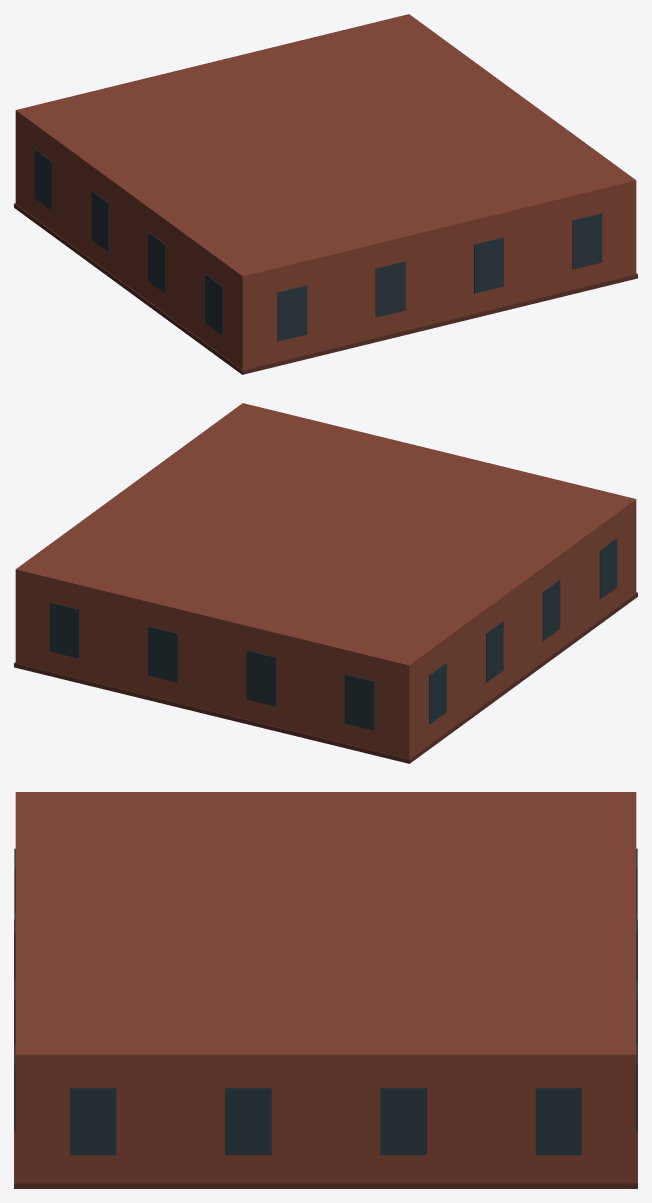
Rendered from tw_brick_16_floor_lod1.glb.
3 renders of one model, top to bottom at view 1: azimuth 30°, elevation 25°; view 2: azimuth 150°, elevation 25°; view 3: azimuth 270°, elevation 25°, orthographic. The views are drawn at different scales.
Parts seen in each view (by area): view 1: tw_brick_16_floor_lod1; view 2: tw_brick_16_floor_lod1; view 3: tw_brick_16_floor_lod1.
Boxes of the visible parts, left/top/right/bottom form: tw_brick_16_floor_lod1: left=14, top=14, right=637, bottom=374; tw_brick_16_floor_lod1: left=14, top=403, right=637, bottom=763; tw_brick_16_floor_lod1: left=14, top=792, right=637, bottom=1188.
Size of the model in its own units: 16.08 by 3.8 by 16.08.
Materials: 1 (1 with a texture image).
